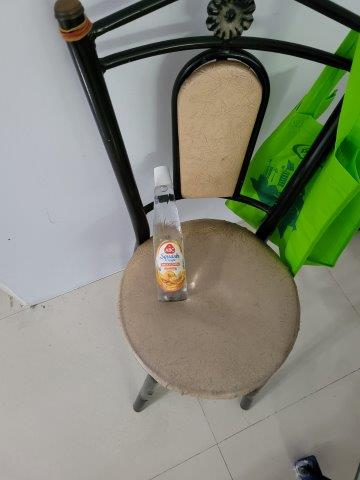botolkaca: (151, 165, 187, 303)
